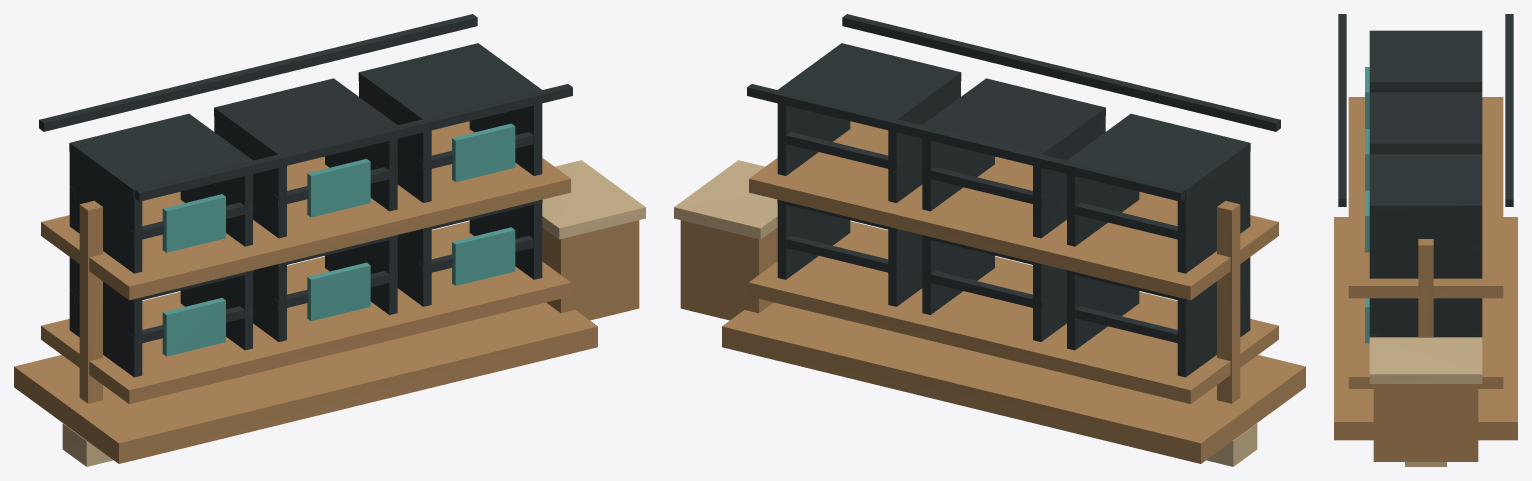
The model's file is Crab-Pots.glb.
The picture shows the model from 3 angles, left to right: view 1: azimuth 30°, elevation 25°; view 2: azimuth 150°, elevation 25°; view 3: azimuth 270°, elevation 25°; orthographic projection. The views are drawn at different scales.
Visible parts, largest first — view 1: crab-pots-static-crab-pots-warm-timber-rack, crab-pots-static-crab-pots-charcoal-cage-rails, crab-pots-static-crab-pots-muted-teal-access-panels, crab-pots-static-crab-pots-cream-gear-box-lid, crab-pots-static-crab-pots-pale-stone-feet; view 2: crab-pots-static-crab-pots-warm-timber-rack, crab-pots-static-crab-pots-charcoal-cage-rails, crab-pots-static-crab-pots-cream-gear-box-lid, crab-pots-static-crab-pots-pale-stone-feet; view 3: crab-pots-static-crab-pots-charcoal-cage-rails, crab-pots-static-crab-pots-warm-timber-rack, crab-pots-static-crab-pots-cream-gear-box-lid, crab-pots-static-crab-pots-muted-teal-access-panels, crab-pots-static-crab-pots-pale-stone-feet.
Boxes of the visible parts, x1,y1,x2,y2 form: crab-pots-static-crab-pots-warm-timber-rack: (14, 121, 639, 463); crab-pots-static-crab-pots-charcoal-cage-rails: (39, 14, 572, 377); crab-pots-static-crab-pots-muted-teal-access-panels: (162, 123, 515, 356); crab-pots-static-crab-pots-cream-gear-box-lid: (542, 160, 645, 239); crab-pots-static-crab-pots-pale-stone-feet: (62, 423, 113, 466); crab-pots-static-crab-pots-warm-timber-rack: (680, 121, 1305, 463); crab-pots-static-crab-pots-charcoal-cage-rails: (747, 14, 1280, 377); crab-pots-static-crab-pots-cream-gear-box-lid: (674, 160, 777, 239); crab-pots-static-crab-pots-pale-stone-feet: (1206, 423, 1257, 466); crab-pots-static-crab-pots-charcoal-cage-rails: (1338, 14, 1513, 337); crab-pots-static-crab-pots-warm-timber-rack: (1334, 97, 1517, 461); crab-pots-static-crab-pots-cream-gear-box-lid: (1369, 337, 1482, 383); crab-pots-static-crab-pots-muted-teal-access-panels: (1365, 67, 1369, 343); crab-pots-static-crab-pots-pale-stone-feet: (1405, 462, 1446, 466).
Bounding box in the file's own units: 6.62 × 3.45 × 2.2.
